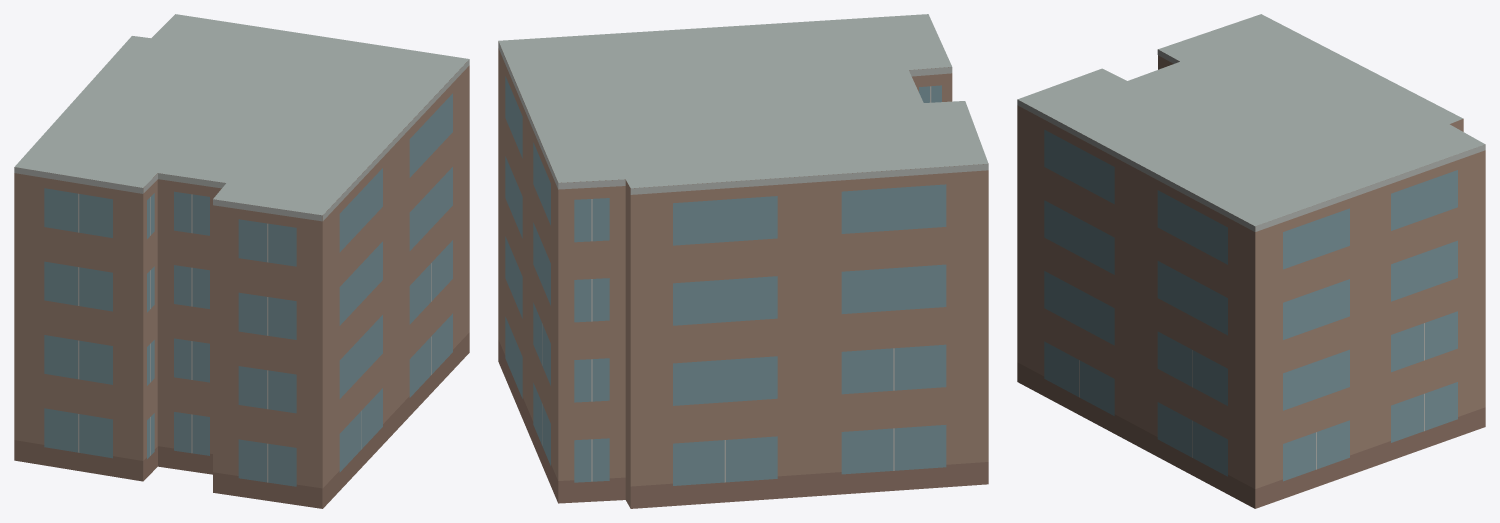
The model's file is survey-upis-32945327.glb.
3 renders of one model, left to right at view 1: azimuth 30°, elevation 25°; view 2: azimuth 150°, elevation 25°; view 3: azimuth 270°, elevation 25°, orthographic. The views are drawn at different scales.
Visible parts, largest first — view 1: survey-upis-32945327.tmp; view 2: survey-upis-32945327.tmp; view 3: survey-upis-32945327.tmp.
Boxes of the visible parts, x1=… form: survey-upis-32945327.tmp: x1=14, y1=14, x2=469, y2=508; survey-upis-32945327.tmp: x1=498, y1=14, x2=988, y2=508; survey-upis-32945327.tmp: x1=1017, y1=14, x2=1485, y2=508.
Bounding box in the file's own units: 19.1 × 11.85 × 17.8.
